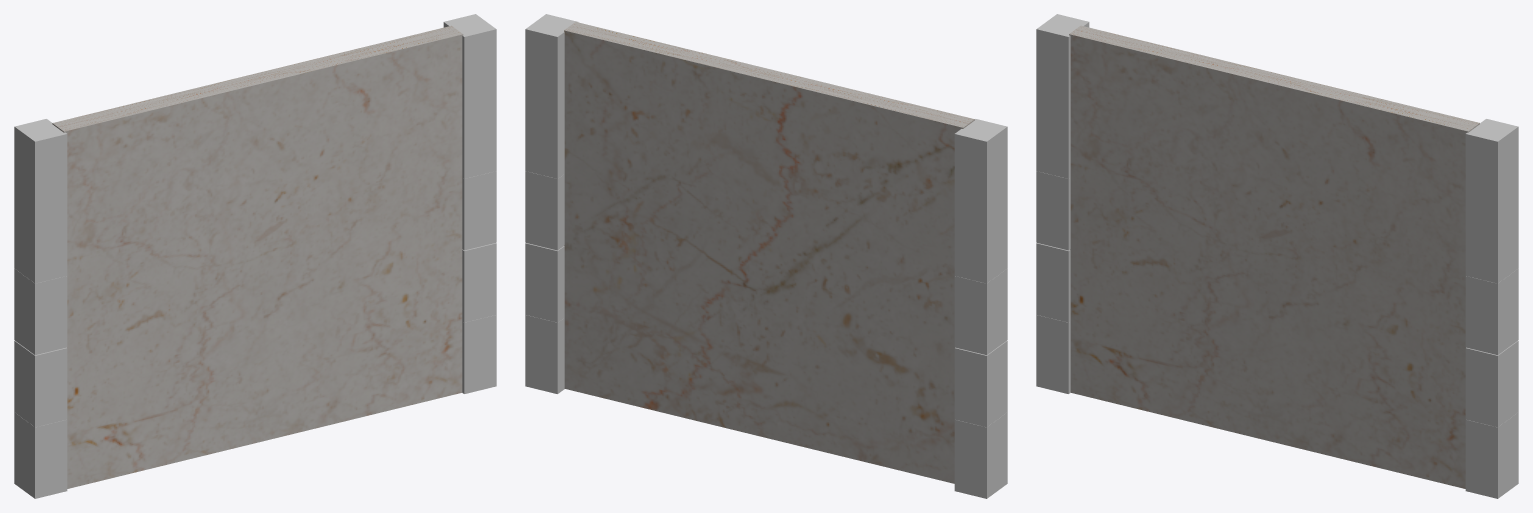
File: PARED.fbx
3 views of the same model, side by side, from view 1: azimuth 30°, elevation 25°; view 2: azimuth 150°, elevation 25°; view 3: azimuth 330°, elevation 25° (orthographic).
Parts seen in each view (by area): view 1: Cube, Cube.001, Cube.002; view 2: Cube, Cube.001, Cube.002; view 3: Cube, Cube.002, Cube.001.
Part boxes in pixels (bbox=[...]): Cube: bbox=[52, 25, 463, 488]; Cube.001: bbox=[14, 119, 67, 498]; Cube.002: bbox=[443, 14, 496, 393]; Cube: bbox=[564, 22, 974, 483]; Cube.001: bbox=[954, 119, 1007, 498]; Cube.002: bbox=[525, 14, 577, 393]; Cube: bbox=[1069, 25, 1479, 488]; Cube.002: bbox=[1465, 119, 1518, 498]; Cube.001: bbox=[1036, 14, 1089, 393].
Bounding box in the file's own units: 991 × 735 × 77.19.
